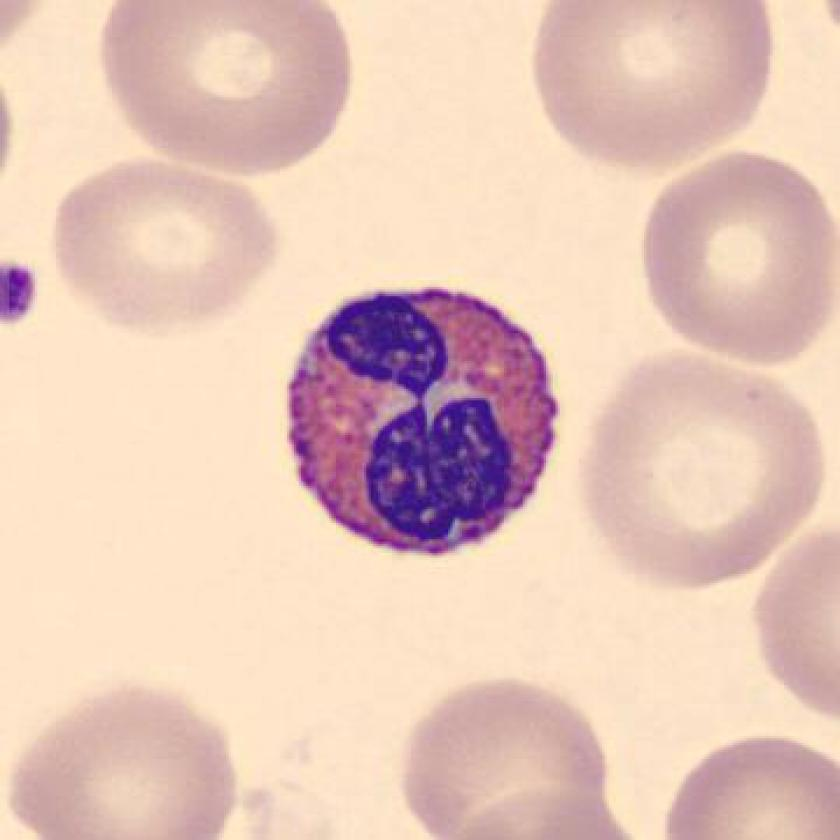eosinophil: (274, 272, 580, 577)
